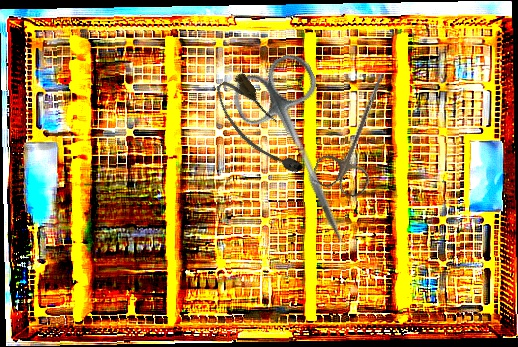Cannula: (208, 69, 310, 187)
Iris Scissors: (225, 47, 384, 261), (309, 63, 406, 201)
